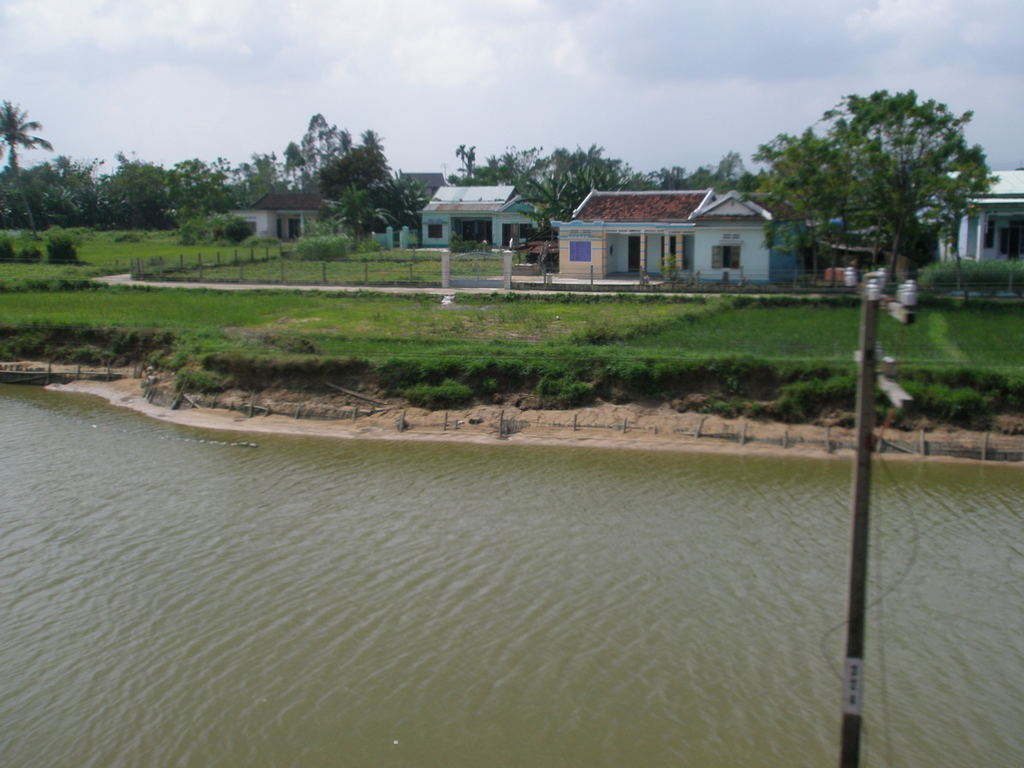Tree: (0, 0, 1023, 767), (767, 71, 993, 283)
